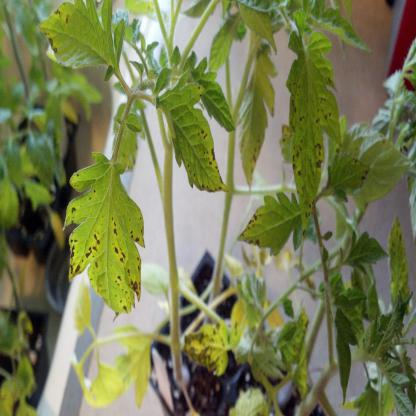tomato septoria leaf spot: (64, 164, 148, 338), (282, 40, 344, 248), (152, 76, 235, 196), (234, 191, 314, 269), (179, 314, 234, 385)
